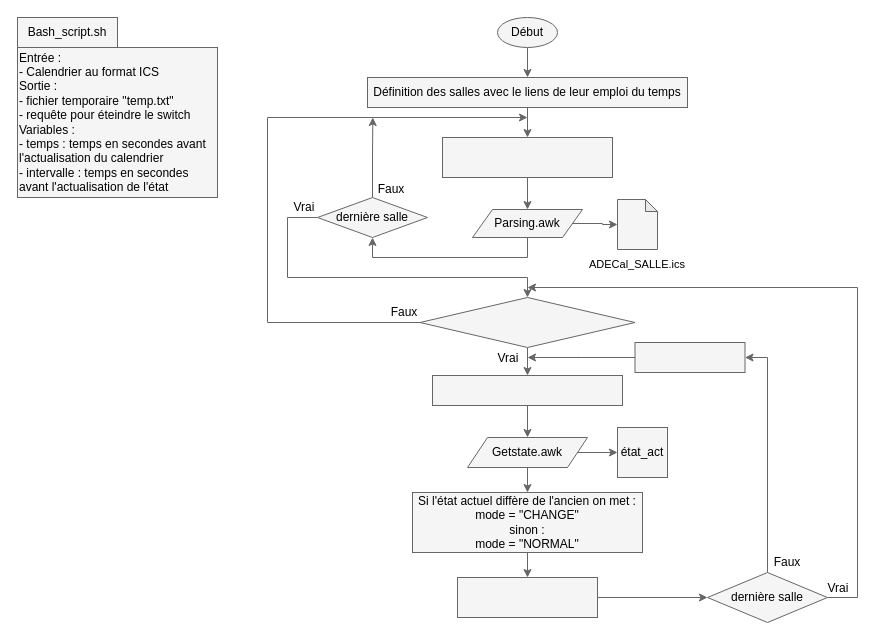
Some shapes in this 886 by 640 pixel diagram are drawn without their labels. The box of each missing label's shape, as (x1, y1, x2, y2) in pixels:
compteur < temps / intervalle: (419, 296, 635, 348)
pause ( intervalle ) compteur = compteur+1: (456, 576, 598, 618)
Prochaine salle: (634, 342, 745, 372)
Requête à ADE pour récupérer le calendrier de la salle: (442, 136, 612, 178)
état_ancien [ SALLE ] = état_act: (432, 374, 622, 406)
